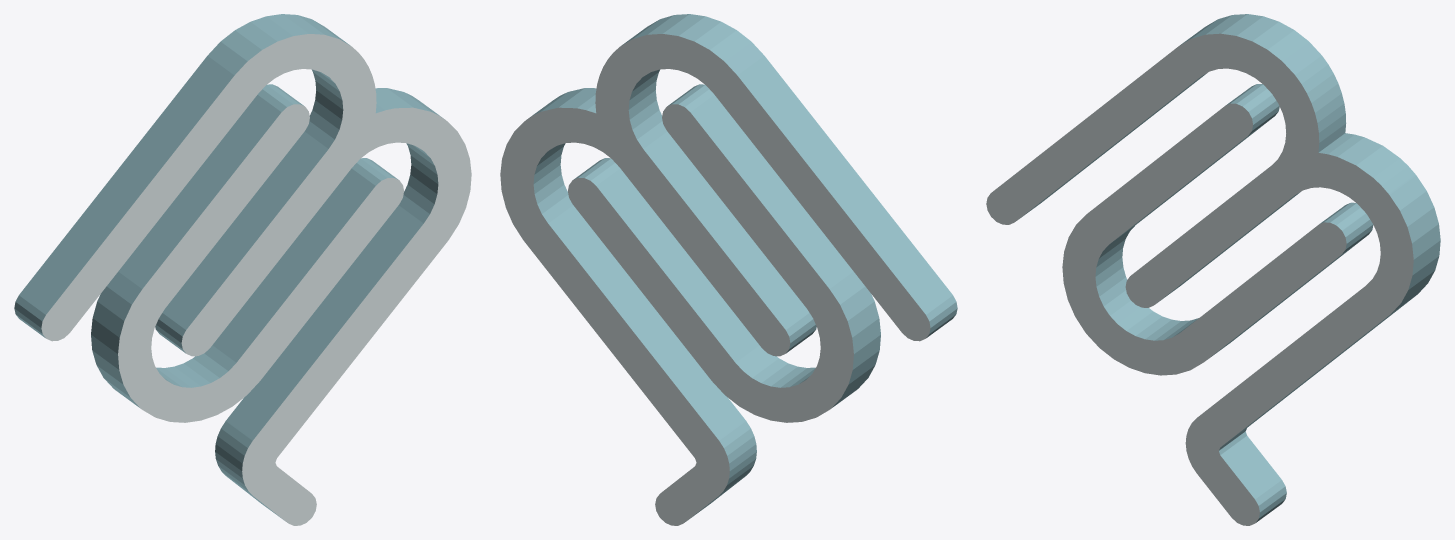
The model's file is codicon_mcp_v01.glb.
3 views of the same model, side by side, from view 1: azimuth 30°, elevation 25°; view 2: azimuth 150°, elevation 25°; view 3: azimuth 330°, elevation 25° (orthographic).
Visible parts, largest first — view 1: codicon_mcp; view 2: codicon_mcp; view 3: codicon_mcp.
Part boxes in pixels (<box>): codicon_mcp: <box>14,14,471,525</box>; codicon_mcp: <box>500,14,957,525</box>; codicon_mcp: <box>986,14,1440,525</box>.
Bounding box in the file's own units: 0.5499 × 0.6 × 0.06.
Materials: 1 (1 with a texture image).
